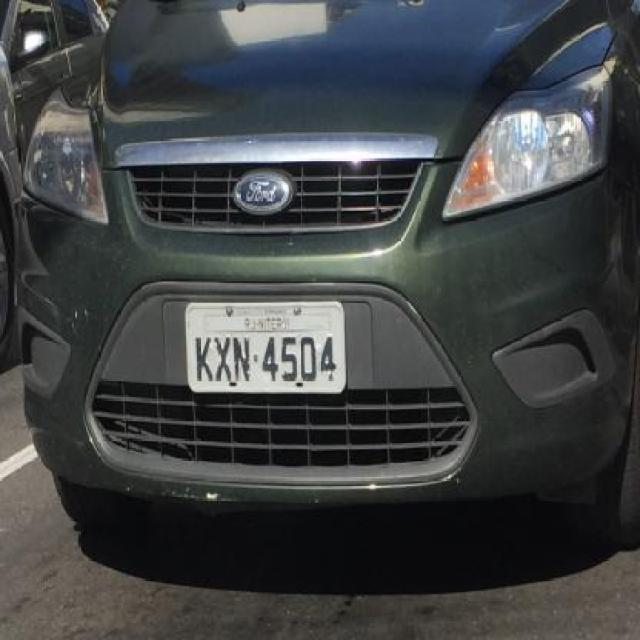old_plate: (181, 297, 352, 398)
